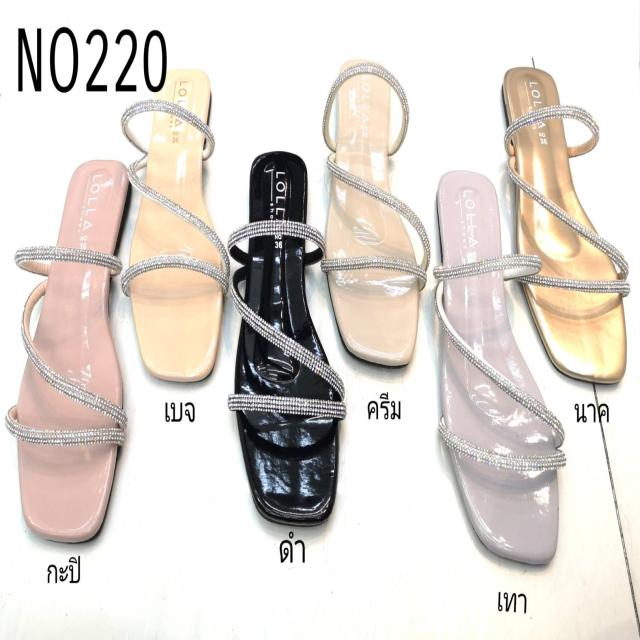bej: (131, 60, 223, 382)
black: (233, 152, 338, 521)
cream: (326, 85, 423, 369)
grey: (433, 166, 561, 562)
kapi: (14, 160, 128, 539)
nak: (500, 68, 622, 373)
